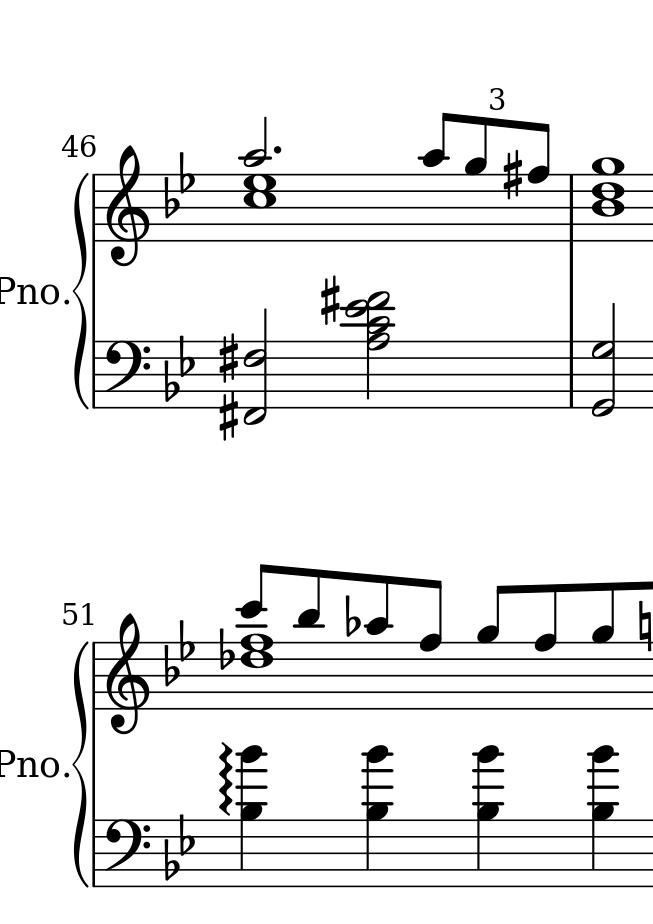1: (80, 600, 96, 628)
1_th: (591, 154, 624, 244)
2_-1_6: (243, 309, 270, 426)
2_0_7: (592, 302, 617, 418)
2_4th: (343, 287, 398, 411)
3: (487, 86, 505, 111)
4: (60, 132, 79, 160), (80, 131, 98, 159)
4_9_16: (235, 745, 270, 888), (361, 745, 396, 888), (471, 744, 506, 887), (586, 743, 621, 886)
5: (62, 598, 78, 629)
8_10: (419, 110, 456, 244), (363, 574, 390, 712)
8_11: (294, 566, 322, 710)
8_8: (417, 577, 443, 713), (533, 582, 558, 711), (525, 120, 551, 244)
8_9: (475, 583, 508, 711), (589, 581, 616, 713), (463, 115, 488, 244)
Arpeggio: (218, 739, 234, 819)
B_F: (164, 152, 196, 223), (162, 336, 196, 402), (164, 619, 196, 687), (164, 815, 198, 879)
Brace: (71, 172, 91, 410), (71, 639, 89, 887)
Fclef: (103, 340, 151, 408), (104, 819, 150, 889)
Flat: (345, 593, 362, 638), (218, 626, 235, 671)
Gclef: (103, 144, 151, 270), (106, 613, 151, 735)
Natural: (637, 598, 653, 662)
Pno: (1, 271, 60, 312), (1, 747, 62, 783)
Sharp: (318, 272, 342, 328), (216, 331, 241, 384), (501, 146, 523, 203), (219, 392, 238, 444)
Single_barline: (87, 819, 103, 887), (563, 175, 580, 239), (563, 342, 579, 406), (87, 340, 102, 407), (87, 642, 101, 709), (88, 174, 102, 241)
dot: (271, 145, 283, 158)
